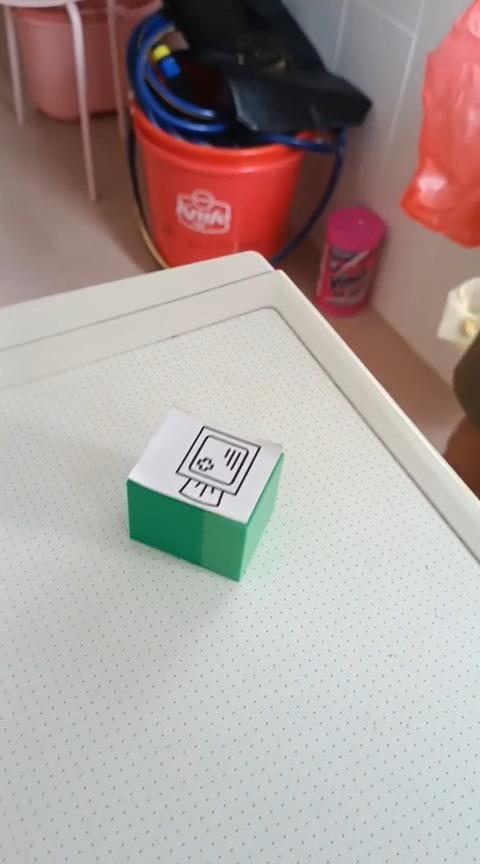Gauze: (125, 405, 284, 582)
